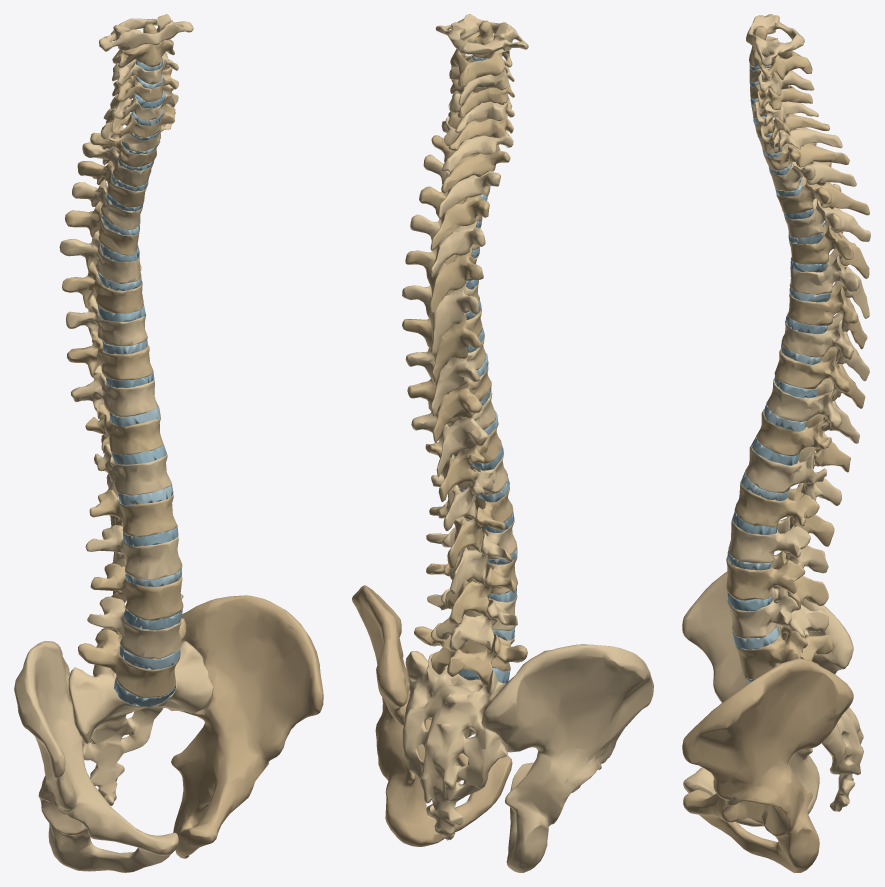
The model's file is spine.glb.
3 views of the same model, side by side, from view 1: azimuth 30°, elevation 25°; view 2: azimuth 150°, elevation 25°; view 3: azimuth 270°, elevation 25° (orthographic). The views are drawn at different scales.
Parts seen in each view (by area): view 1: left-hip-bone, right-hip-bone, sacrum, fifth-lumbar-vertebra-l5, second-lumbar-vertebra-l2, third-lumbar-vertebra-l3, fourth-lumbar-vertebra-l4, first-lumbar-vertebra-l1, tenth-thoracic-vertebra-t10, twelfth-thoracic-vertebra-t12, ninth-thoracic-vertebra-t9, eleventh-thoracic-vertebra-t11 (+19 smaller); view 2: right-hip-bone, sacrum, left-hip-bone, fifth-lumbar-vertebra-l5, fourth-lumbar-vertebra-l4, third-lumbar-vertebra-l3, second-lumbar-vertebra-l2, tenth-thoracic-vertebra-t10, first-lumbar-vertebra-l1, ninth-thoracic-vertebra-t9, seventh-thoracic-vertebra-t7, fifth-thoracic-vertebra-t5 (+15 smaller); view 3: left-hip-bone, right-hip-bone, third-lumbar-vertebra-l3, second-lumbar-vertebra-l2, first-lumbar-vertebra-l1, twelfth-thoracic-vertebra-t12, fourth-lumbar-vertebra-l4, eleventh-thoracic-vertebra-t11, tenth-thoracic-vertebra-t10, fifth-lumbar-vertebra-l5, sacrum, ninth-thoracic-vertebra-t9 (+22 smaller).
Part boxes in pixels (left/top/right/bottom): left-hip-bone: left=171, top=595, right=323, bottom=858; right-hip-bone: left=14, top=641, right=178, bottom=872; sacrum: left=68, top=641, right=213, bottom=805; fifth-lumbar-vertebra-l5: left=78, top=618, right=186, bottom=698; second-lumbar-vertebra-l2: left=85, top=525, right=182, bottom=579; third-lumbar-vertebra-l3: left=90, top=563, right=183, bottom=620; fourth-lumbar-vertebra-l4: left=87, top=594, right=183, bottom=658; first-lumbar-vertebra-l1: left=89, top=489, right=177, bottom=536; tenth-thoracic-vertebra-t10: left=70, top=365, right=158, bottom=419; twelfth-thoracic-vertebra-t12: left=94, top=443, right=171, bottom=496; ninth-thoracic-vertebra-t9: left=66, top=330, right=153, bottom=380; eleventh-thoracic-vertebra-t11: left=85, top=403, right=163, bottom=454; right-hip-bone: left=481, top=644, right=653, bottom=872; sacrum: left=402, top=651, right=507, bottom=840; left-hip-bone: left=352, top=585, right=512, bottom=846; fifth-lumbar-vertebra-l5: left=414, top=623, right=527, bottom=686; fourth-lumbar-vertebra-l4: left=427, top=588, right=517, bottom=651; third-lumbar-vertebra-l3: left=426, top=554, right=517, bottom=623; second-lumbar-vertebra-l2: left=426, top=517, right=517, bottom=594; tenth-thoracic-vertebra-t10: left=411, top=390, right=496, bottom=477; first-lumbar-vertebra-l1: left=429, top=486, right=513, bottom=568; ninth-thoracic-vertebra-t9: left=407, top=365, right=491, bottom=442; seventh-thoracic-vertebra-t7: left=402, top=308, right=482, bottom=382; fifth-thoracic-vertebra-t5: left=405, top=247, right=483, bottom=313; left-hip-bone: left=682, top=658, right=853, bottom=872; right-hip-bone: left=682, top=571, right=853, bottom=826; third-lumbar-vertebra-l3: left=726, top=551, right=828, bottom=610; second-lumbar-vertebra-l2: left=728, top=516, right=828, bottom=578; first-lumbar-vertebra-l1: left=735, top=480, right=834, bottom=546; twelfth-thoracic-vertebra-t12: left=745, top=445, right=841, bottom=505; fourth-lumbar-vertebra-l4: left=727, top=587, right=828, bottom=638; eleventh-thoracic-vertebra-t11: left=756, top=409, right=850, bottom=472; tenth-thoracic-vertebra-t10: left=766, top=378, right=859, bottom=443; fifth-lumbar-vertebra-l5: left=735, top=625, right=834, bottom=679; sacrum: left=786, top=630, right=863, bottom=811; ninth-thoracic-vertebra-t9: left=774, top=347, right=865, bottom=408.
Bounding box in the file's own units: 0.6578 × 1.83 × 0.3804.
